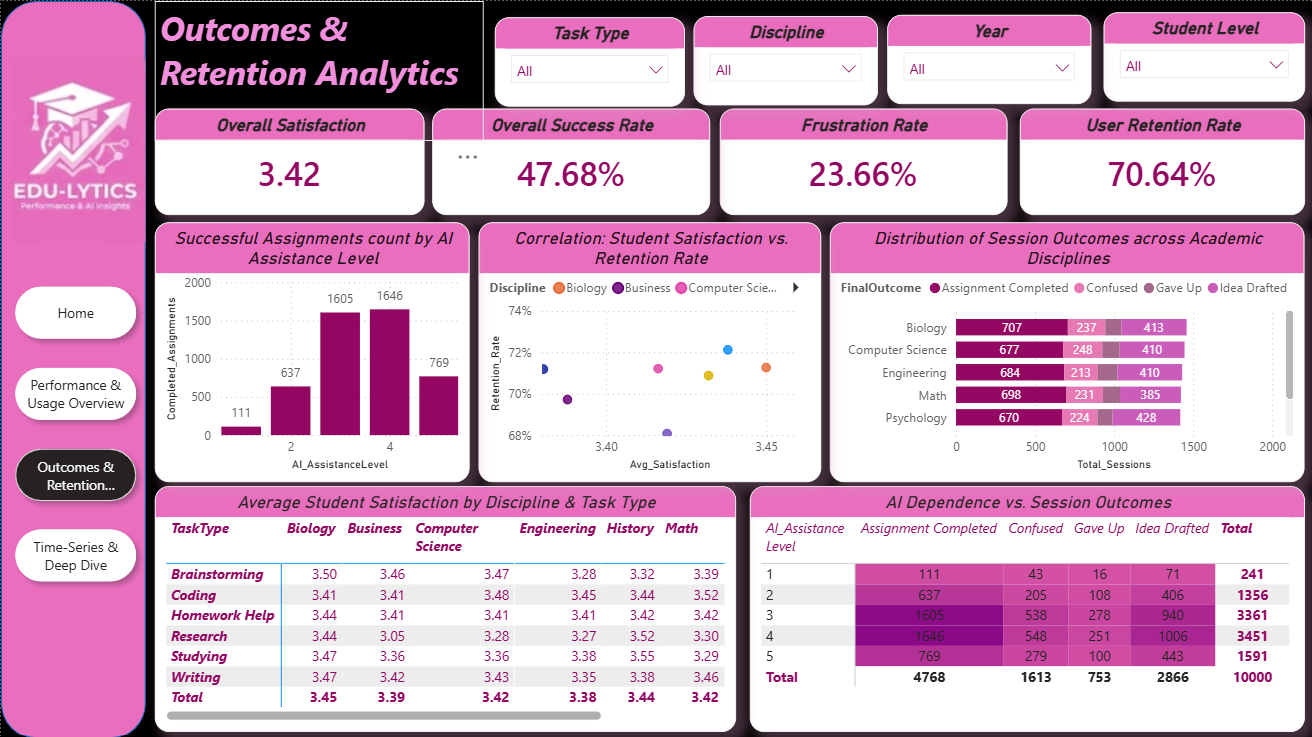

What the dashboard file says about the page in this screenshot:
{"tool":"powerbi","page":{"name":"Outcomes & Retention Analytics","canvas":[1280,720],"ordinal":2},"visuals":[{"type":"cardVisual","title":"Overall Satisfaction","fields":{"Data":["_all_measures.Avg_Satisfaction"]},"box":[150.4,105.2,263.4,104],"z":0},{"type":"cardVisual","title":"Frustration Rate","fields":{"Data":["_all_measures.Frustration_Percentage"]},"box":[701,105.2,280.4,104],"z":1000},{"type":"cardVisual","title":"User Retention Rate","fields":{"Data":["_all_measures.Retention_Rate"]},"box":[993.8,105.2,278.1,104],"z":2000},{"type":"cardVisual","title":"Overall Success Rate","fields":{"Data":["_all_measures.Success_Rate"]},"box":[420.6,105.2,271.4,104],"z":3000},{"type":"pivotTable","title":"AI Dependence vs. Session Outcomes","fields":{"Rows":["Fact_Sessions.AI_AssistanceLevel"],"Columns":["Dim_Task.FinalOutcome"],"Values":["_all_measures.Total_Sessions"]},"box":[730.4,472.6,541.6,239.7],"z":4000},{"type":"pivotTable","title":"Average Student Satisfaction by Discipline & Task Type","fields":{"Rows":["Dim_Task.TaskType"],"Columns":["Dim_Student.Discipline"],"Values":["_all_measures.Avg_Satisfaction"]},"box":[150.4,472.6,567.6,239.7],"z":5000},{"type":"barChart","title":"Distribution of Session Outcomes across Academic Disciplines","fields":{"Category":["Dim_Student.Discipline"],"Series":["Dim_Task.FinalOutcome"],"Y":["_all_measures.Total_Sessions"]},"box":[808.4,216,463.6,253.3],"z":6000},{"type":"scatterChart","title":"Correlation: Student Satisfaction vs. Retention Rate","fields":{"X":["_all_measures.Avg_Satisfaction"],"Y":["_all_measures.Retention_Rate"],"Series":["Dim_Student.Discipline"]},"box":[465.8,216,334.7,253.3],"z":7000},{"type":"clusteredColumnChart","title":"Successful Assignments count by AI Assistance Level","fields":{"Category":["Fact_Sessions.AI_AssistanceLevel"],"Y":["_all_measures.Completed_Assignments"]},"box":[150.4,216,307.5,253.3],"z":8000},{"type":"slicer","title":"Student Level","fields":{"Values":["Dim_Student.StudentLevel"]},"box":[1075.3,11.3,196.7,87.1],"z":9000},{"type":"slicer","title":"Discipline","fields":{"Values":["Dim_Student.Discipline"]},"box":[675,14.7,179.8,87.1],"z":10000},{"type":"slicer","title":"Year","fields":{"Values":["Dim_Date.Year"]},"box":[865,13.6,199,87.1],"z":11000},{"type":"slicer","title":"Task Type","fields":{"Values":["Dim_Task.TaskType"]},"box":[481.7,15.8,185.4,87.1],"z":12000},{"type":"shape","box":[0,0,141.3,720.2],"z":13000},{"type":"textbox","box":[150.4,0,320,136.8],"z":14000},{"type":"image","box":[10.2,0,131.2,290.6],"z":15000},{"type":"pageNavigator","box":[4.5,269.1,136.8,308.7],"z":16000}]}

Visuals, with their boxes in screenshot pixels (x1, y1, x2, y2), scaled from the page's 1280x720 canvas onto the 1312x737 screenshot:
"Overall Satisfaction" cardVisual: (x1=154, y1=108, x2=424, y2=214)
"Frustration Rate" cardVisual: (x1=719, y1=108, x2=1006, y2=214)
"User Retention Rate" cardVisual: (x1=1019, y1=108, x2=1304, y2=214)
"Overall Success Rate" cardVisual: (x1=431, y1=108, x2=709, y2=214)
"AI Dependence vs. Session Outcomes" pivotTable: (x1=749, y1=484, x2=1304, y2=729)
"Average Student Satisfaction by Discipline & Task Type" pivotTable: (x1=154, y1=484, x2=736, y2=729)
"Distribution of Session Outcomes across Academic Disciplines" barChart: (x1=829, y1=221, x2=1304, y2=480)
"Correlation: Student Satisfaction vs. Retention Rate" scatterChart: (x1=477, y1=221, x2=821, y2=480)
"Successful Assignments count by AI Assistance Level" clusteredColumnChart: (x1=154, y1=221, x2=469, y2=480)
"Student Level" slicer: (x1=1102, y1=12, x2=1304, y2=101)
"Discipline" slicer: (x1=692, y1=15, x2=876, y2=104)
"Year" slicer: (x1=887, y1=14, x2=1091, y2=103)
"Task Type" slicer: (x1=494, y1=16, x2=684, y2=105)
shape: (x1=0, y1=0, x2=145, y2=736)
textbox: (x1=154, y1=0, x2=482, y2=140)
image: (x1=10, y1=0, x2=145, y2=297)
pageNavigator: (x1=5, y1=275, x2=145, y2=591)
